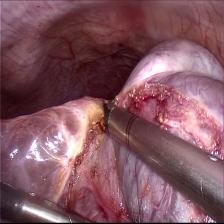Clipper: (97, 100, 136, 156)
